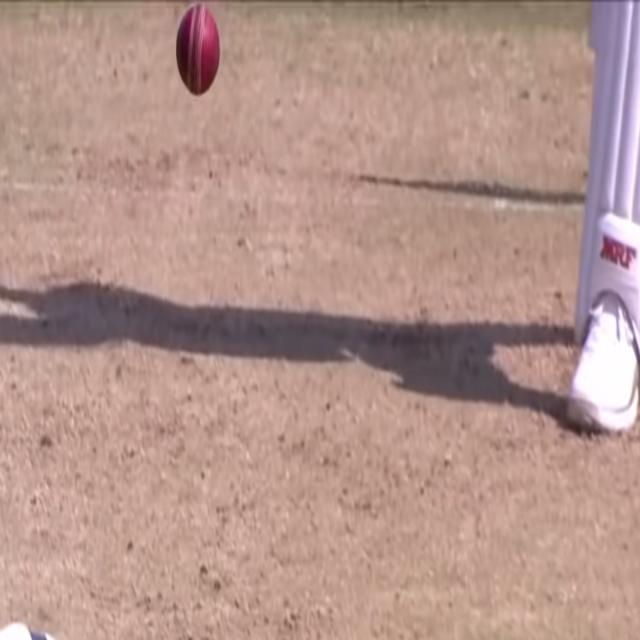ball: (172, 1, 225, 104)
